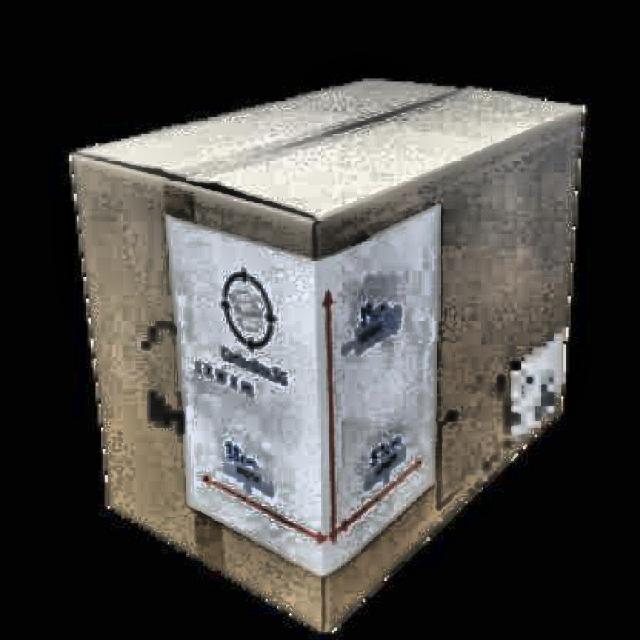Cardbox: (34, 63, 584, 629)
